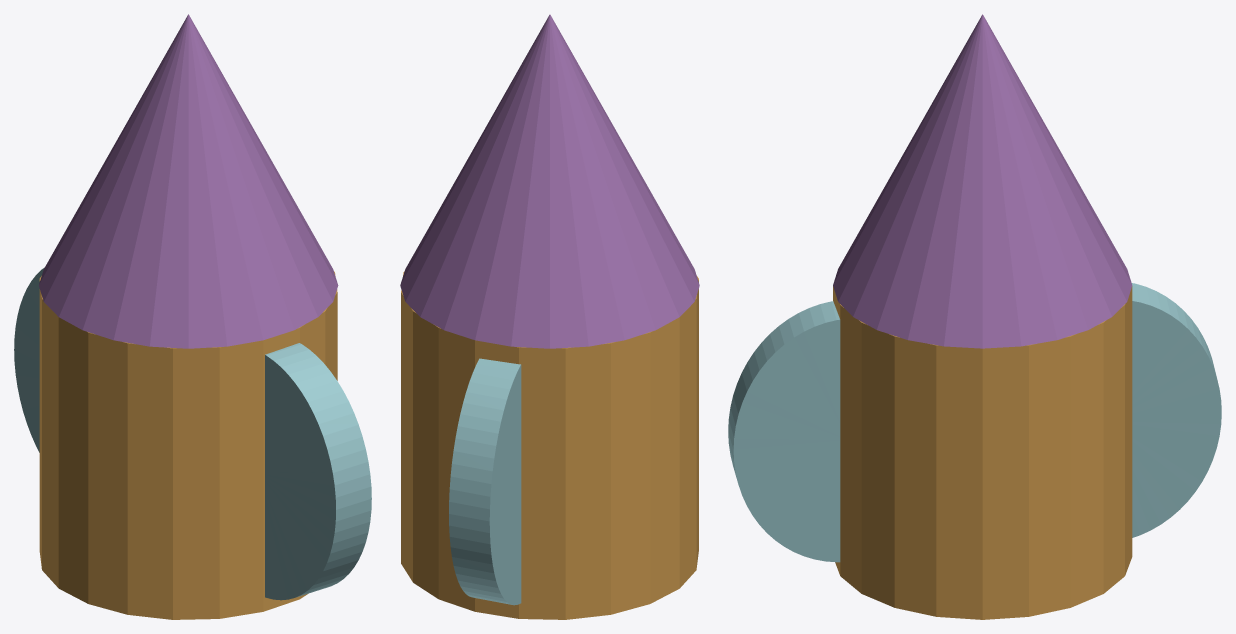
The model's file is pueba_RA.glb.
3 views of the same model, side by side, from view 1: azimuth 30°, elevation 25°; view 2: azimuth 150°, elevation 25°; view 3: azimuth 270°, elevation 25° (orthographic).
Parts seen in each view (by area): view 1: Mesh_Mesh_head_geo.001_lambert2SG.001; view 2: Mesh_Mesh_head_geo.001_lambert2SG.001; view 3: Mesh_Mesh_head_geo.001_lambert2SG.001.
Boxes of the visible parts, x1=… form: Mesh_Mesh_head_geo.001_lambert2SG.001: x1=14, y1=14, x2=371, y2=619; Mesh_Mesh_head_geo.001_lambert2SG.001: x1=400, y1=14, x2=699, y2=619; Mesh_Mesh_head_geo.001_lambert2SG.001: x1=728, y1=14, x2=1221, y2=619.
Bounding box in the file's own units: 20 × 40 × 32.97.
